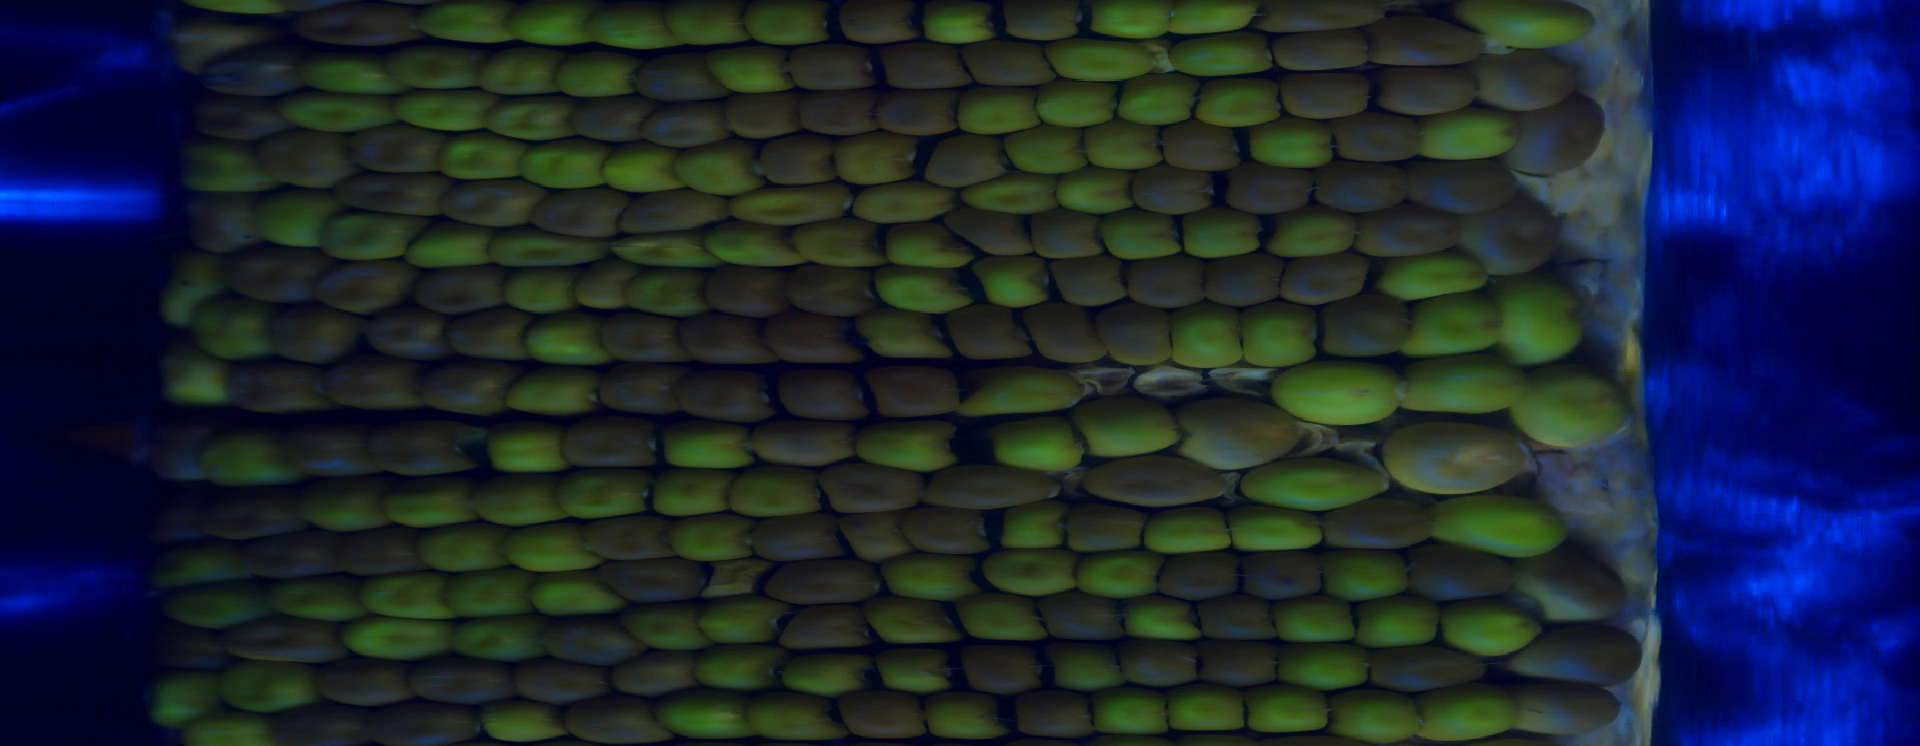fluorescent: (1423, 495, 1580, 562), (1240, 450, 1393, 517), (1518, 367, 1633, 450), (955, 367, 1096, 423), (1491, 281, 1583, 361), (1071, 392, 1178, 461), (1278, 363, 1397, 423), (1467, 1, 1605, 48), (1441, 601, 1551, 659), (1400, 369, 1520, 420), (1404, 298, 1501, 358), (356, 570, 459, 626), (983, 416, 1086, 473), (863, 262, 971, 315), (1409, 118, 1526, 165), (322, 206, 420, 262), (541, 47, 639, 102), (1331, 688, 1424, 746), (279, 92, 404, 135), (1191, 77, 1286, 134), (502, 370, 607, 420), (171, 140, 264, 196), (585, 1, 689, 51), (1237, 310, 1320, 372), (220, 659, 315, 714), (855, 310, 953, 363), (1422, 688, 1520, 740), (879, 550, 981, 599), (192, 294, 272, 356), (1381, 251, 1496, 294), (476, 425, 571, 477), (829, 135, 923, 185), (400, 89, 492, 141), (1002, 122, 1093, 174), (260, 189, 337, 250), (1138, 510, 1244, 554), (742, 699, 842, 746), (490, 233, 604, 273), (198, 432, 285, 485), (733, 467, 829, 514), (951, 88, 1044, 137), (792, 220, 885, 269), (524, 137, 609, 191), (598, 146, 678, 202), (1237, 121, 1337, 167), (1044, 40, 1156, 81), (982, 552, 1076, 600), (1278, 648, 1375, 695), (389, 480, 479, 530), (673, 147, 760, 198), (389, 47, 482, 94), (420, 1, 527, 43), (1035, 83, 1120, 135), (508, 1, 591, 54), (438, 134, 519, 187), (164, 26, 249, 77), (1271, 209, 1359, 258), (782, 648, 868, 698), (1171, 304, 1239, 366), (1120, 72, 1190, 134), (860, 428, 959, 470), (482, 50, 567, 100), (609, 232, 720, 269), (1176, 213, 1269, 258), (482, 100, 578, 145), (1168, 39, 1272, 80), (965, 176, 1068, 217), (629, 269, 711, 320), (267, 577, 358, 622), (956, 597, 1044, 643), (560, 473, 645, 521), (500, 269, 579, 321), (662, 522, 760, 563), (475, 702, 567, 746), (920, 695, 1011, 739), (660, 699, 756, 741), (424, 528, 504, 577), (530, 317, 605, 370), (146, 546, 242, 587), (467, 484, 560, 526), (1352, 598, 1445, 639), (705, 600, 782, 650), (1063, 169, 1138, 220), (1248, 691, 1335, 735), (1322, 552, 1412, 595), (309, 55, 393, 100), (344, 619, 452, 654), (857, 608, 958, 646), (649, 477, 735, 521), (993, 502, 1068, 552), (1113, 600, 1209, 639), (662, 423, 749, 465), (853, 183, 951, 220), (157, 246, 208, 318), (1231, 514, 1322, 555), (405, 225, 493, 267), (456, 575, 530, 624), (983, 258, 1049, 314), (911, 1, 998, 43), (1079, 551, 1161, 595), (508, 533, 600, 572), (744, 1, 822, 48), (678, 1, 749, 51), (451, 622, 541, 661), (1087, 1, 1180, 39), (730, 187, 844, 218), (152, 673, 223, 722), (1101, 214, 1176, 261), (538, 570, 616, 614), (871, 650, 949, 695), (159, 347, 222, 402), (167, 589, 260, 626), (711, 54, 793, 96), (1052, 648, 1129, 692), (1171, 1, 1266, 37), (883, 229, 961, 272), (1090, 125, 1160, 173), (1271, 600, 1353, 641), (304, 484, 383, 526), (620, 612, 707, 650), (1092, 695, 1171, 735), (1167, 695, 1248, 733), (708, 232, 793, 267), (697, 654, 782, 688), (187, 713, 261, 746), (201, 1, 290, 22)
nonfluorescent: (1386, 424, 1531, 494), (1179, 388, 1292, 463), (1524, 546, 1635, 622), (1515, 626, 1644, 687), (1086, 452, 1227, 507), (1469, 196, 1562, 278), (770, 356, 880, 421), (1371, 13, 1489, 73), (1346, 205, 1464, 261), (407, 652, 527, 707), (1520, 96, 1600, 176), (280, 414, 380, 478), (1086, 303, 1180, 369), (1322, 500, 1446, 550), (1412, 157, 1520, 214), (407, 258, 512, 317), (1315, 295, 1416, 356), (231, 246, 329, 306), (298, 2, 420, 50), (1518, 684, 1626, 737), (1476, 55, 1576, 113), (380, 415, 471, 478), (1407, 546, 1515, 599), (1122, 159, 1220, 217), (923, 472, 1056, 513), (561, 418, 662, 472), (593, 363, 684, 421), (681, 365, 776, 421), (1359, 644, 1496, 684), (1026, 303, 1112, 365), (1315, 162, 1412, 216), (880, 359, 964, 421), (322, 358, 422, 409), (947, 206, 1044, 258), (1284, 252, 1375, 309), (778, 40, 882, 89), (430, 363, 518, 420), (1035, 588, 1127, 643), (1204, 246, 1284, 309), (192, 91, 287, 143), (759, 559, 889, 597), (208, 36, 298, 91), (564, 695, 664, 744), (823, 461, 929, 506), (344, 127, 442, 176), (697, 263, 792, 314), (764, 318, 860, 369), (636, 51, 722, 107), (230, 625, 338, 669), (365, 703, 482, 744), (757, 418, 856, 465), (1371, 67, 1476, 113), (185, 195, 263, 255), (538, 185, 627, 236), (1022, 209, 1118, 257), (1273, 1, 1393, 39), (253, 522, 338, 576), (207, 494, 298, 544), (1222, 169, 1315, 217), (312, 258, 409, 304), (792, 265, 882, 314), (1133, 254, 1209, 311), (596, 315, 687, 363), (267, 309, 353, 359), (229, 361, 315, 412), (511, 659, 616, 699), (922, 137, 1007, 187), (264, 136, 347, 187), (905, 507, 993, 555), (1160, 118, 1240, 169), (1044, 257, 1133, 304), (687, 304, 757, 363), (600, 557, 700, 598), (587, 517, 676, 562), (271, 702, 362, 746), (842, 692, 927, 740), (1123, 639, 1200, 691), (838, 1, 924, 47), (339, 533, 426, 578), (318, 665, 419, 704), (876, 92, 960, 138), (965, 40, 1053, 85), (953, 303, 1013, 366), (623, 200, 726, 236), (444, 185, 538, 225), (1009, 688, 1093, 733), (1267, 37, 1371, 72), (157, 413, 208, 483), (353, 174, 438, 216), (448, 320, 531, 363), (640, 107, 737, 143), (1340, 115, 1418, 160), (752, 517, 845, 555), (962, 641, 1044, 684), (1240, 555, 1327, 595), (801, 94, 880, 138), (546, 620, 638, 658), (369, 309, 440, 358), (887, 50, 970, 92), (753, 137, 829, 183), (1193, 599, 1275, 641), (1011, 2, 1092, 44), (163, 628, 233, 676), (1198, 641, 1275, 684), (1160, 552, 1238, 594), (1281, 80, 1371, 115), (842, 514, 909, 557), (571, 96, 639, 136), (1068, 503, 1135, 544), (156, 491, 208, 543), (622, 654, 687, 695), (787, 611, 864, 643), (735, 96, 790, 135)
